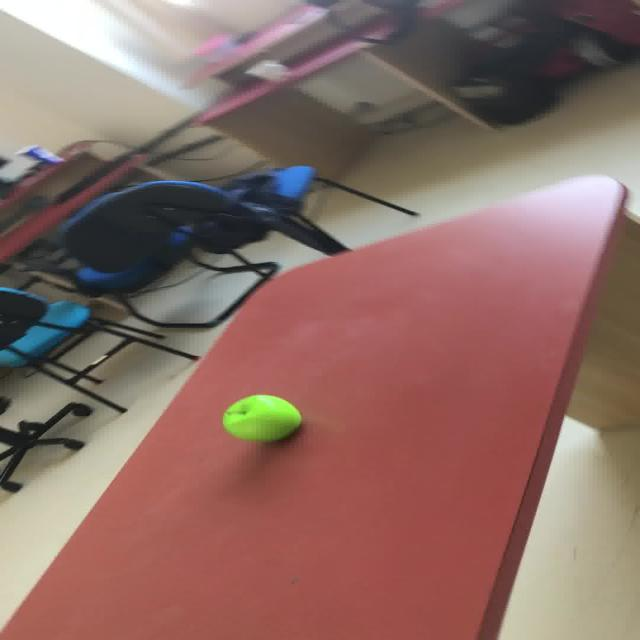apple: (220, 394, 301, 442)
